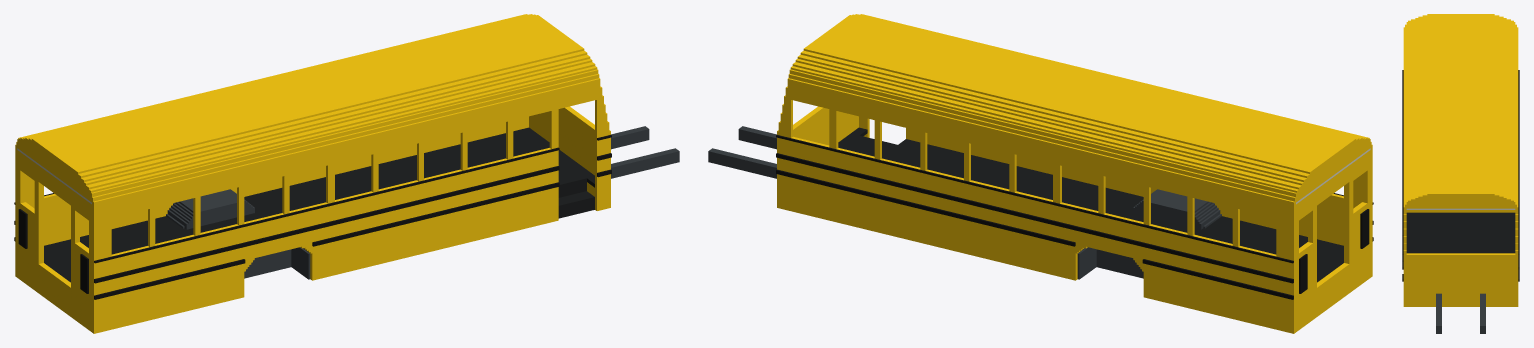
Rendered from school_bus_shell.glb.
The picture shows the model from 3 angles, left to right: view 1: azimuth 30°, elevation 25°; view 2: azimuth 150°, elevation 25°; view 3: azimuth 270°, elevation 25°; orthographic projection. The views are drawn at different scales.
Visible parts, largest first — view 1: body:compound; view 2: body:compound; view 3: body:compound.
Boxes of the visible parts, x1=… form: body:compound: x1=14, y1=14, x2=679, y2=333; body:compound: x1=708, y1=14, x2=1373, y2=333; body:compound: x1=1402, y1=14, x2=1519, y2=333.
Bounding box in the file's own units: 10.91 × 2.56 × 2.5.
